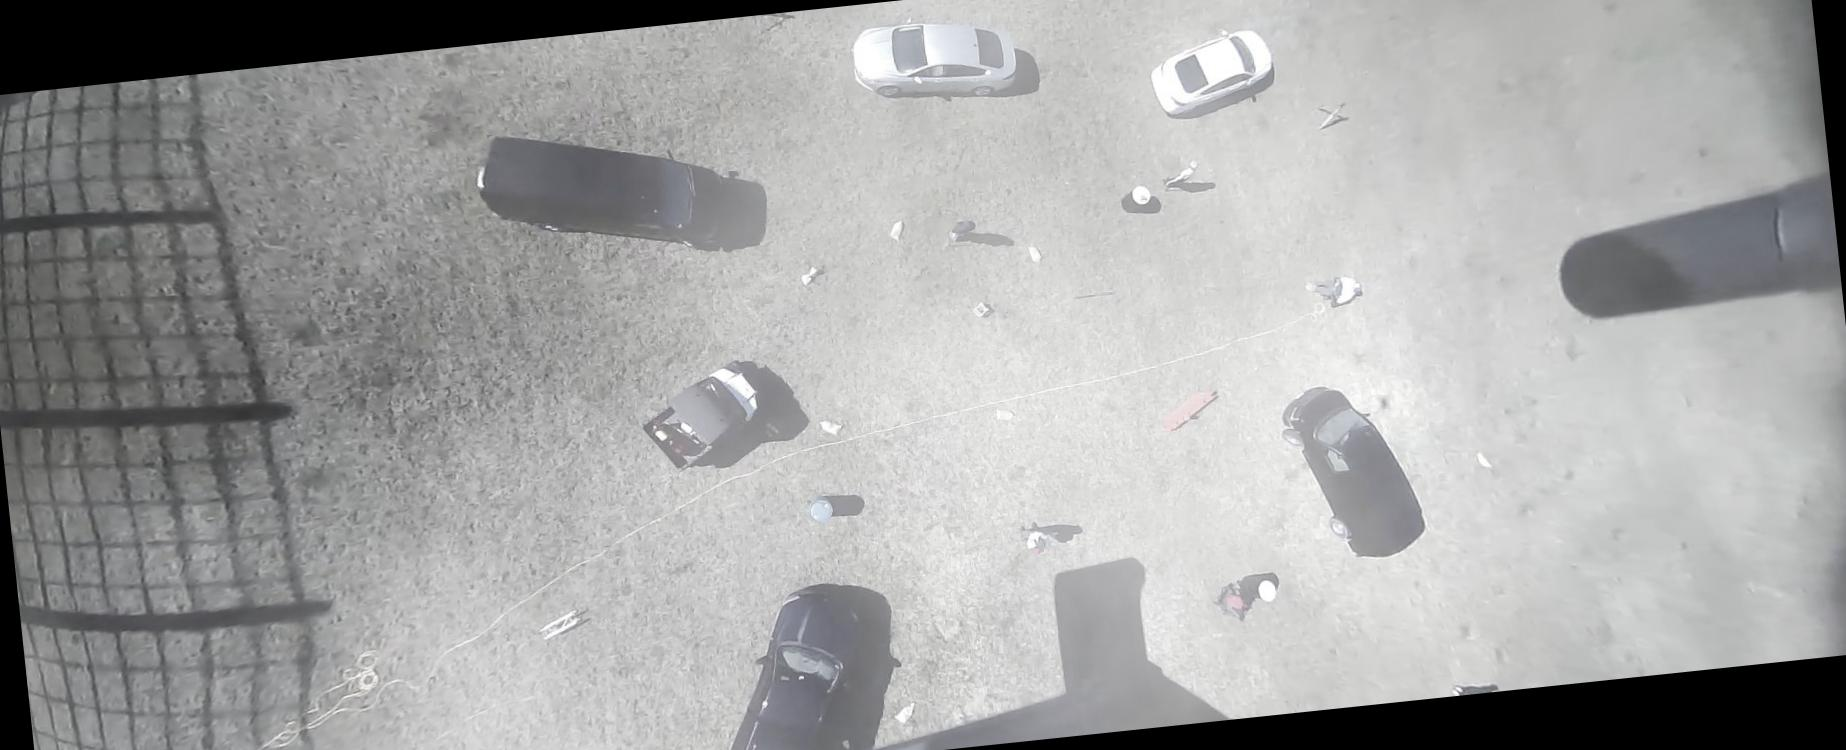vehicle: (471, 112, 730, 276), (704, 583, 877, 749), (1276, 378, 1428, 566), (848, 7, 1021, 109), (636, 359, 764, 476), (1147, 24, 1277, 117)
